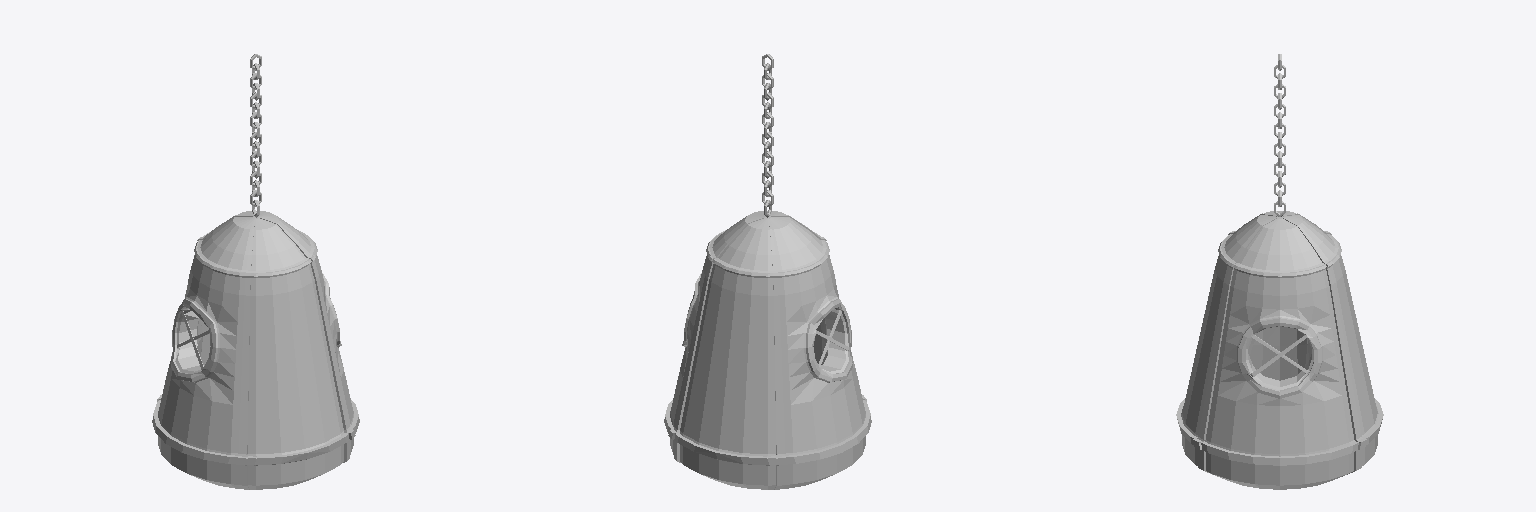
The model's file is Diving_Bell.obj.
3 renders of one model, left to right at view 1: azimuth 30°, elevation 25°; view 2: azimuth 150°, elevation 25°; view 3: azimuth 270°, elevation 25°, orthographic.
Parts seen in each view (by area): view 1: Torus.002; view 2: Torus.002; view 3: Torus.002.
Boxes of the visible parts, x1,y1,x2,y2 form: Torus.002: [152, 54, 359, 489]; Torus.002: [664, 54, 871, 489]; Torus.002: [1176, 54, 1383, 489].
Bounding box in the file's own units: 4.53 × 9.74 × 4.52.